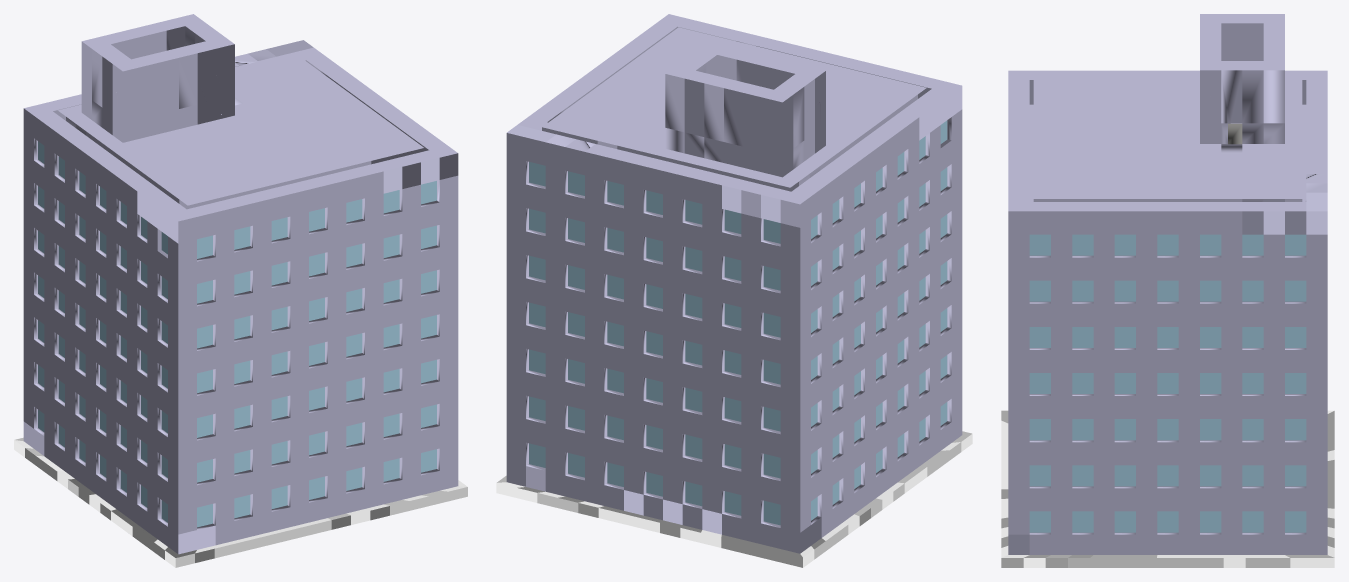
File: building8.glb
The picture shows the model from 3 angles, left to right: view 1: azimuth 30°, elevation 25°; view 2: azimuth 150°, elevation 25°; view 3: azimuth 270°, elevation 25°; orthographic projection. The views are drawn at different scales.
Visible parts, largest first — view 1: House_9_2; view 2: House_9_2; view 3: House_9_2.
Part boxes in pixels (left/top/right/bottom): House_9_2: left=14, top=14, right=467, bottom=567; House_9_2: left=496, top=14, right=972, bottom=567; House_9_2: left=1001, top=14, right=1334, bottom=567.
Size of the model in its own units: 32.02 by 43.49 by 30.65.
